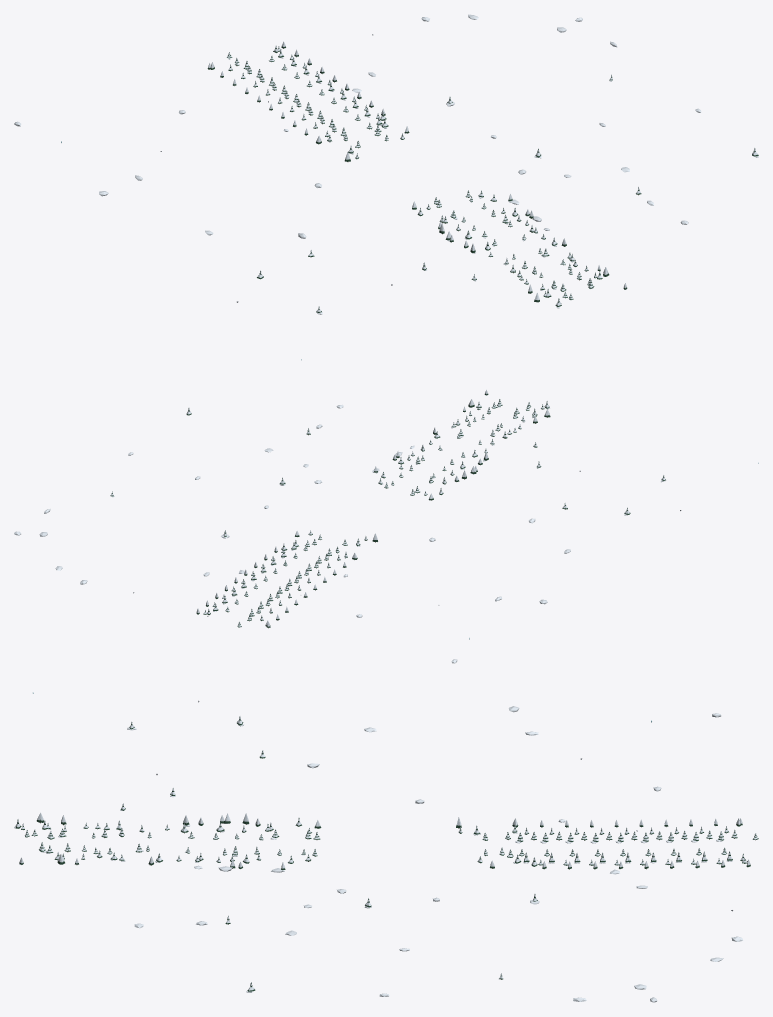
The model's file is Fill_0_1.fbx.
3 renders of one model, top to bottom at view 1: azimuth 30°, elevation 25°; view 2: azimuth 150°, elevation 25°; view 3: azimuth 270°, elevation 25°, orthographic. The views are drawn at different scales.
Visible parts, largest first — view 1: Fill_0_1; view 2: Fill_0_1; view 3: Fill_0_1.
Boxes of the visible parts, x1=… form: Fill_0_1: x1=14, y1=14, x2=758, y2=360; Fill_0_1: x1=14, y1=389, x2=758, y2=663; Fill_0_1: x1=14, y1=692, x2=758, y2=1002.
Size of the model in its own units: 56262 by 1559 by 59054.
